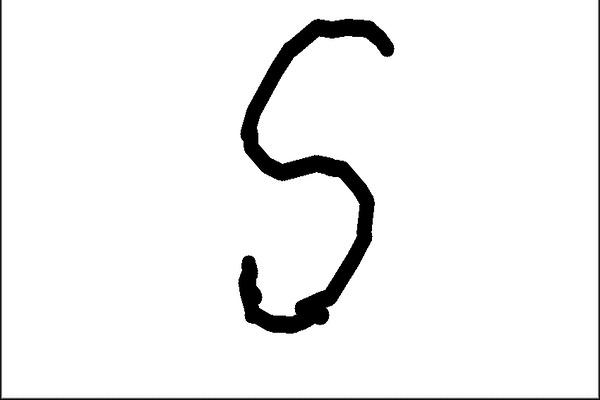S: (229, 10, 398, 340)
